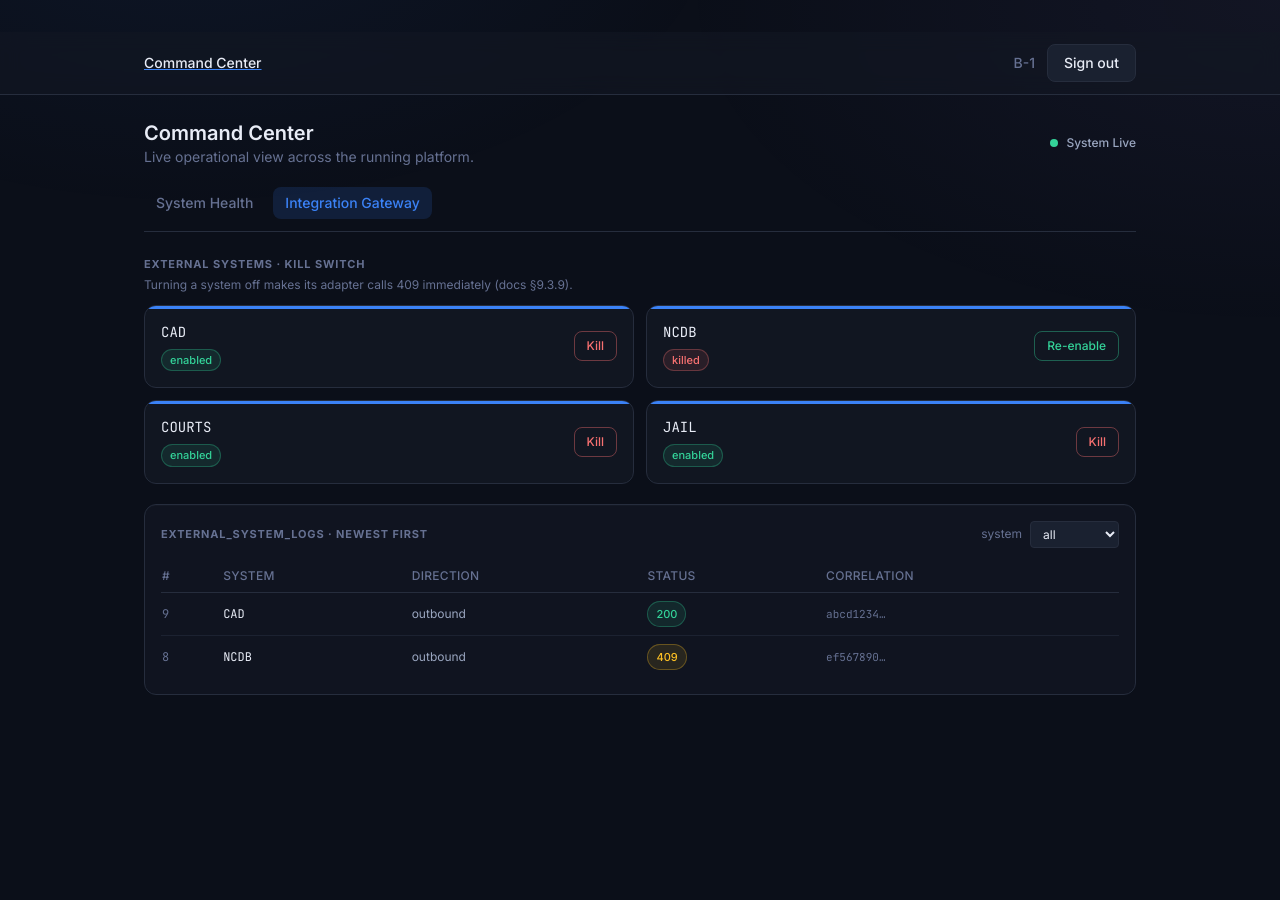
Scenario: Command Center — Integration Gateway (B5) › flips the kill switch via PATCH when the caller holds integration.write
Step 1. Click the 1st button "Kill" → (595, 346), box x1=574 y1=331 x2=617 y2=361
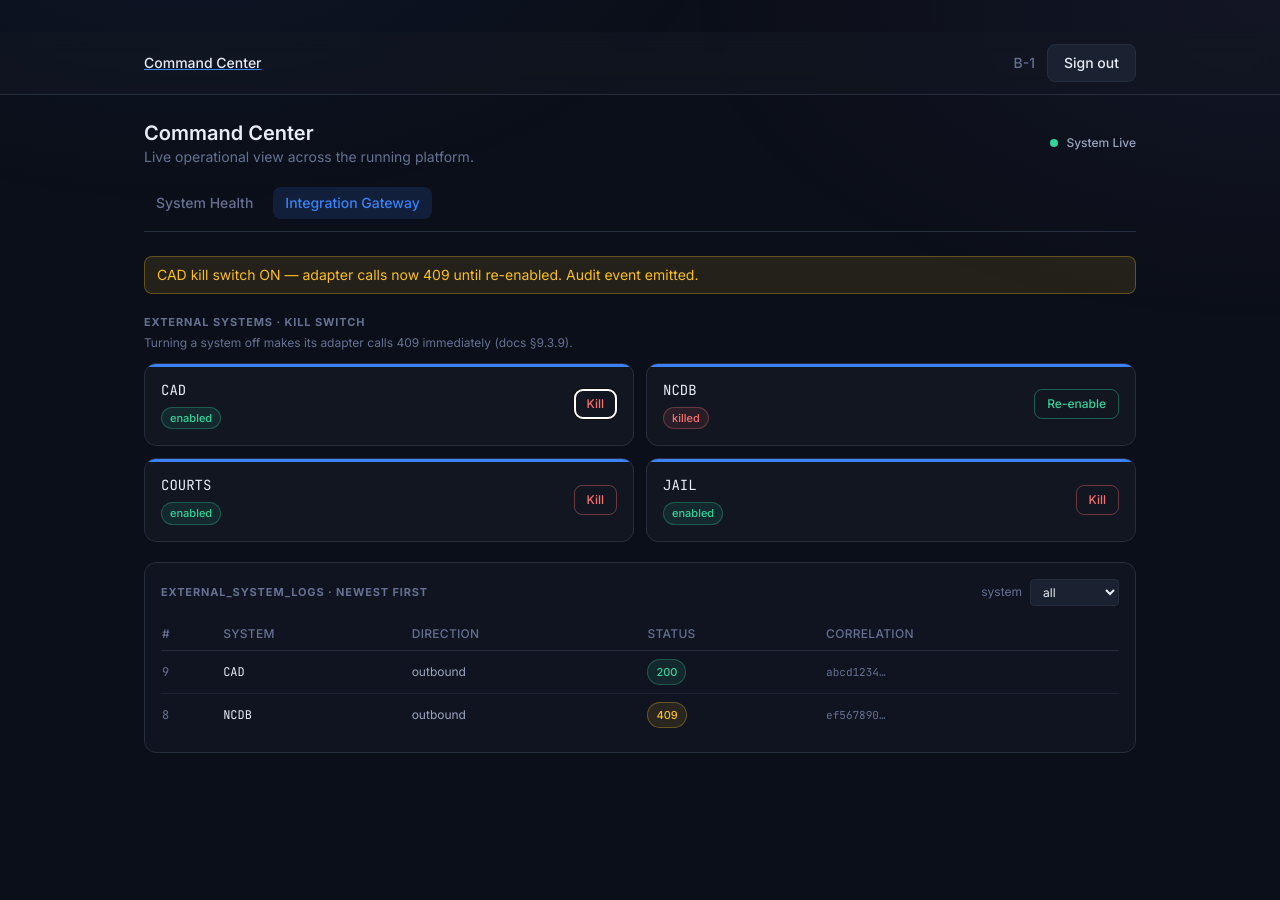
Now the text "kill switch ON — adapter calls now 409" is shown, box x1=157 y1=266 x2=698 y2=283
